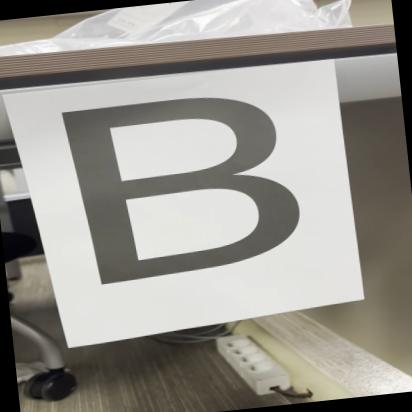seat: (28, 82, 336, 296)
